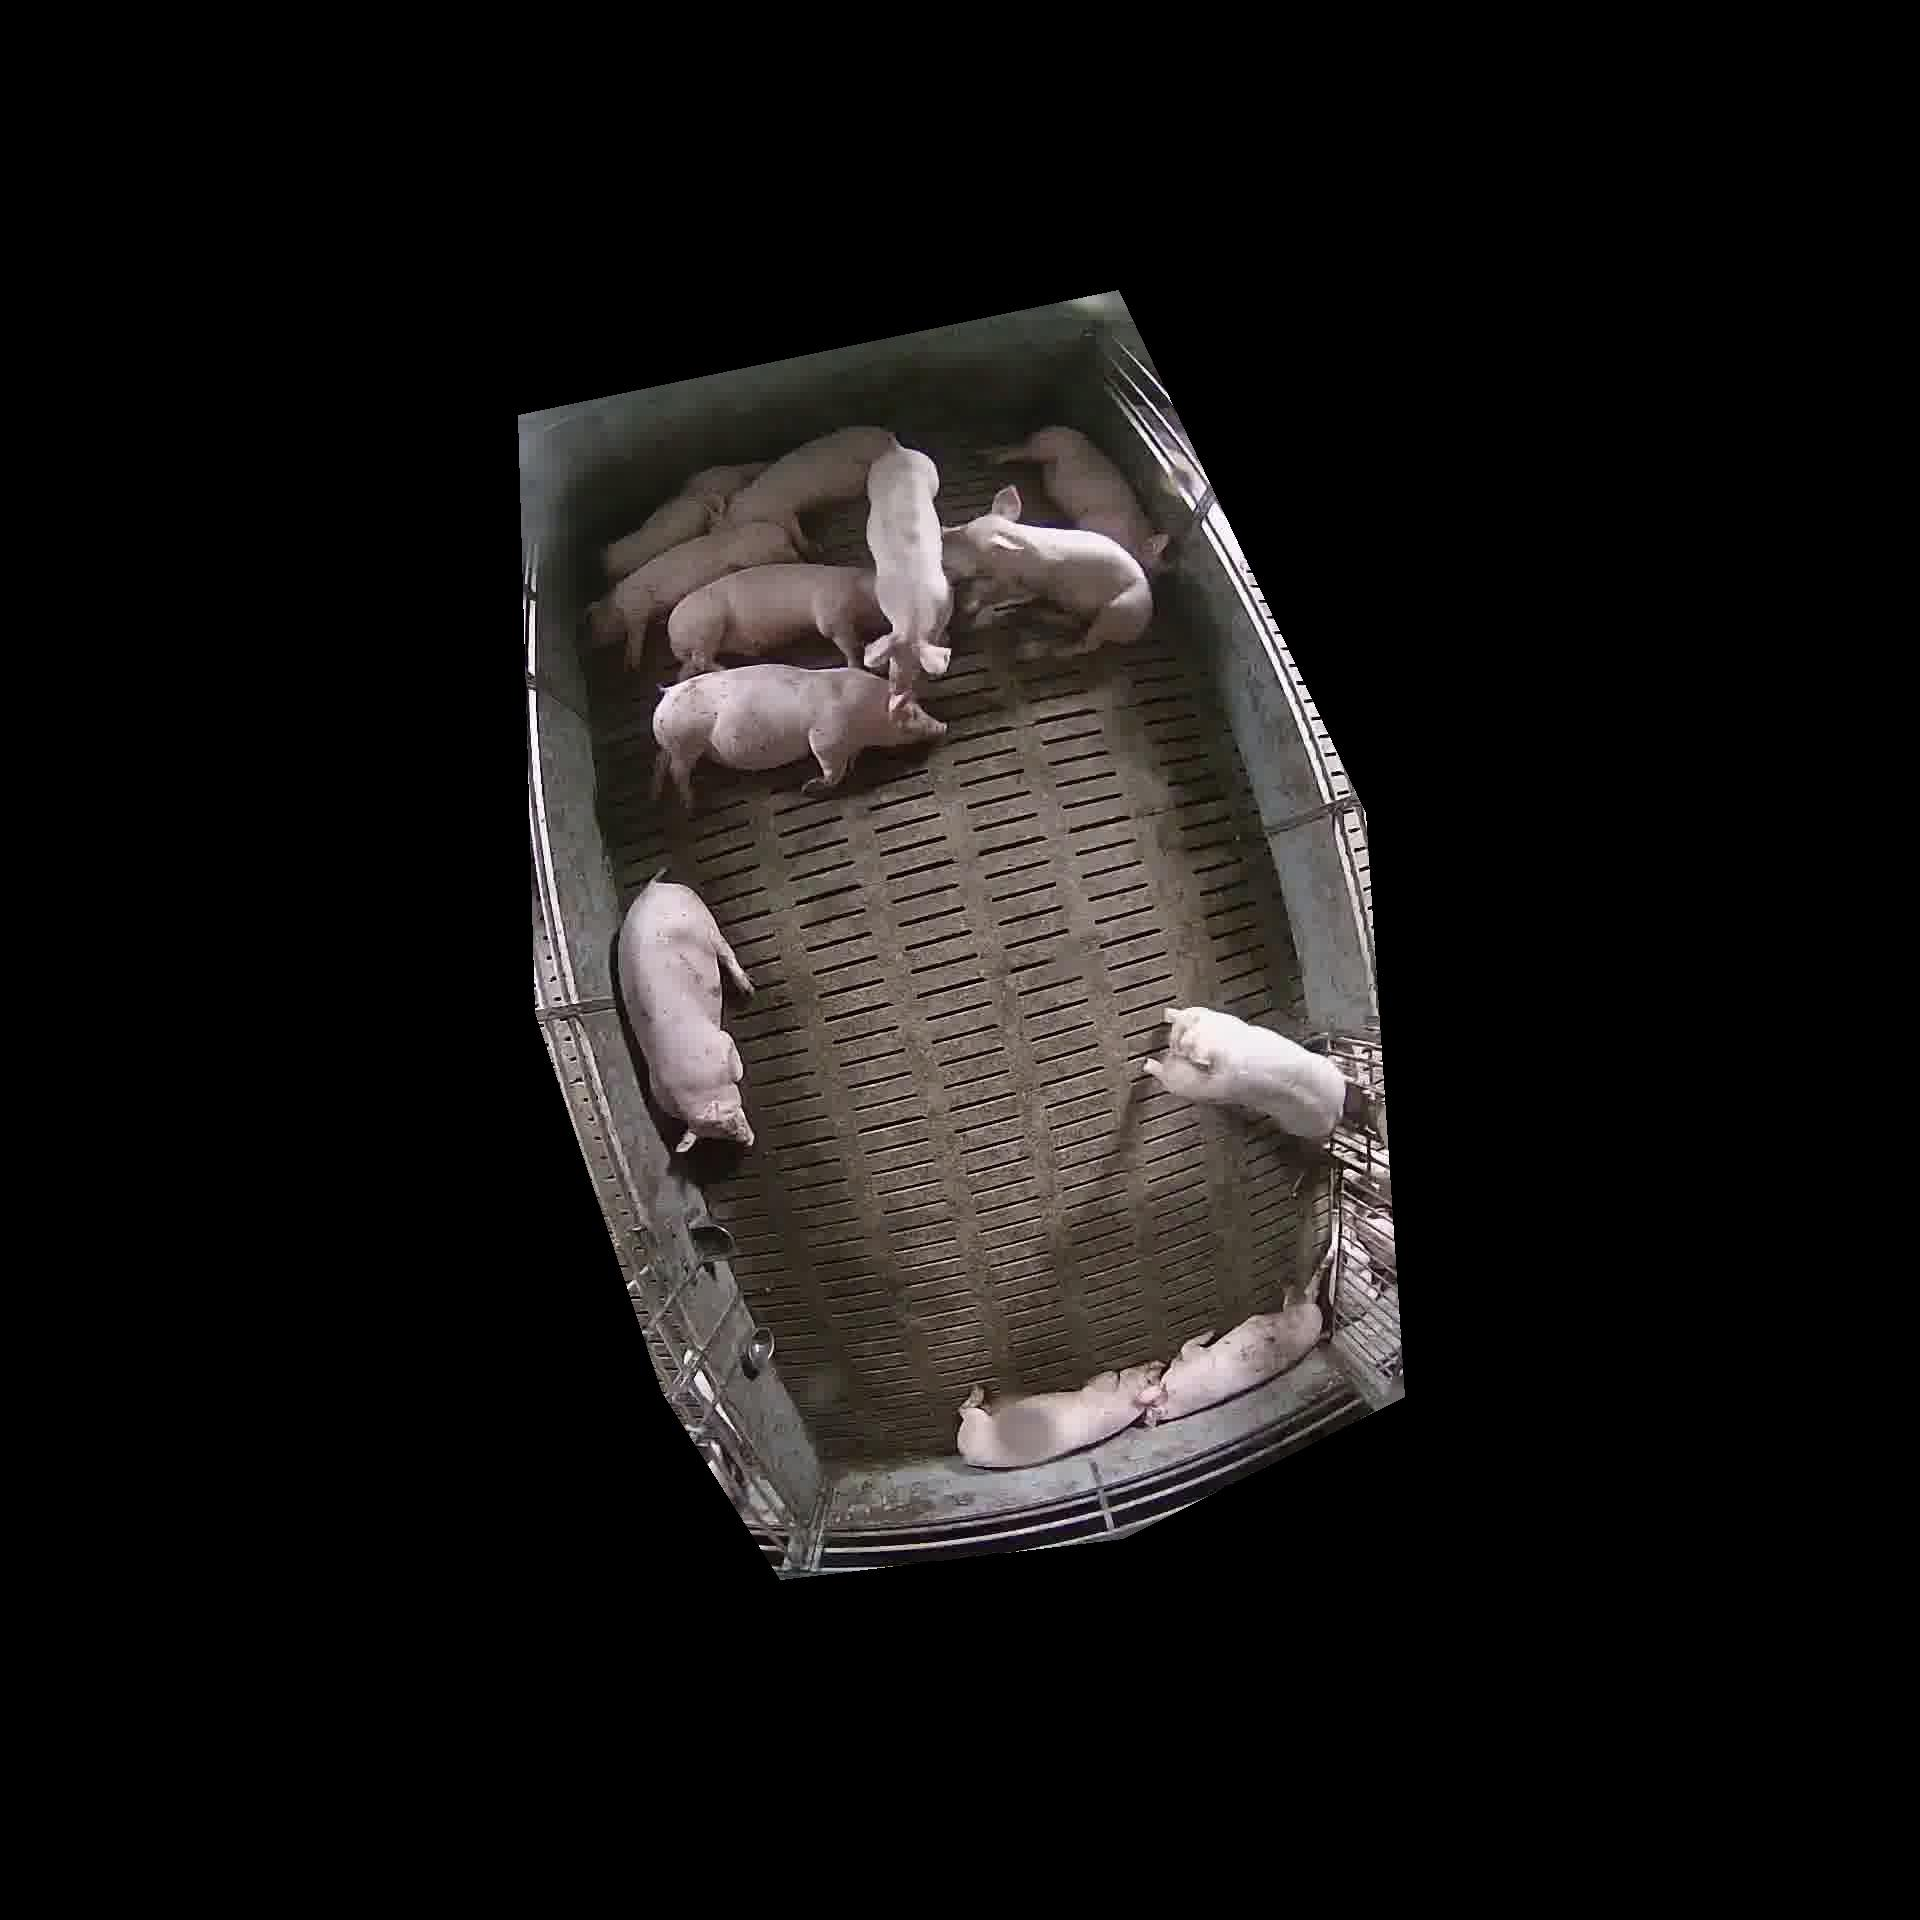pig: (652, 665, 944, 805), (619, 879, 753, 1152), (942, 485, 1152, 654), (587, 522, 798, 668), (986, 425, 1167, 571), (1145, 1007, 1345, 1138), (668, 563, 888, 679), (863, 445, 951, 709), (1145, 1298, 1322, 1422), (956, 1363, 1162, 1466), (723, 427, 895, 550), (603, 462, 765, 580)
